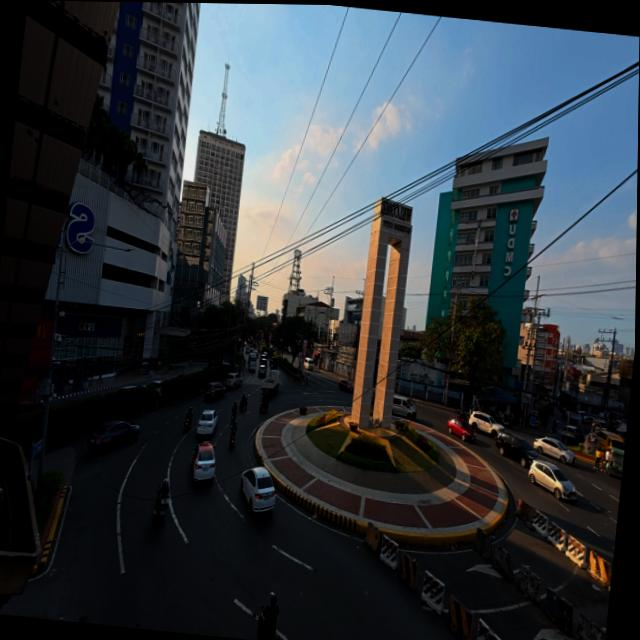Jeepneys: (607, 448, 623, 478)
bus: (248, 351, 258, 372)
car: (528, 459, 575, 500), (86, 420, 139, 452), (240, 466, 275, 512), (496, 430, 537, 467), (533, 437, 574, 464), (468, 411, 503, 438), (192, 441, 214, 480), (446, 418, 475, 441), (196, 410, 217, 435), (561, 425, 584, 445), (204, 382, 225, 400), (16, 400, 42, 413), (223, 372, 240, 389), (143, 380, 161, 396), (590, 420, 606, 434), (337, 379, 352, 392), (114, 385, 136, 392), (577, 411, 588, 423), (257, 364, 266, 377), (269, 357, 278, 369), (261, 351, 267, 360), (245, 346, 250, 354), (287, 346, 291, 353)
motorcycle: (257, 606, 279, 639), (154, 497, 168, 522), (498, 412, 510, 428), (456, 409, 466, 420), (259, 400, 268, 412), (229, 432, 235, 448), (184, 417, 191, 430), (239, 399, 246, 411), (551, 420, 557, 433), (230, 410, 236, 422)
trucks: (260, 369, 280, 395)
vans: (391, 394, 416, 419), (598, 430, 625, 450), (303, 358, 313, 370)
